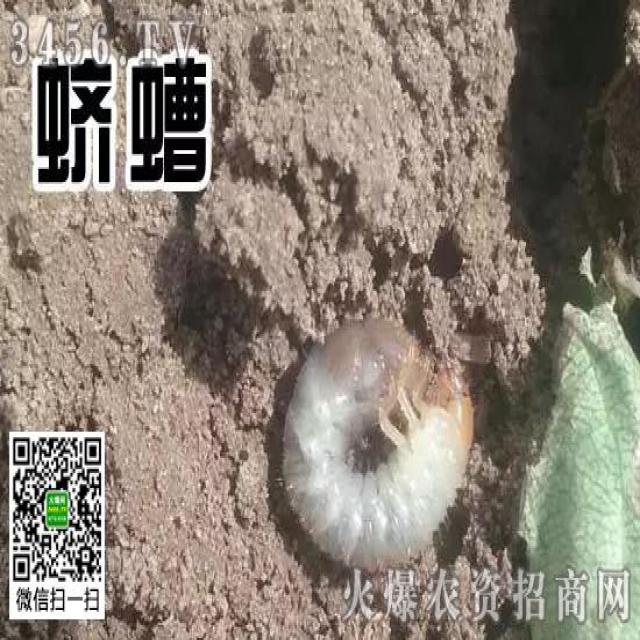Grub-Adult-: (276, 310, 480, 580)
